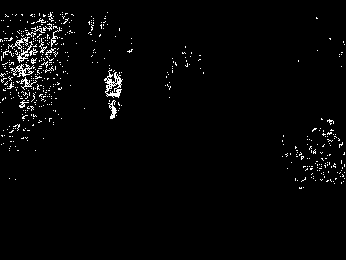person: (101, 67, 123, 121)
